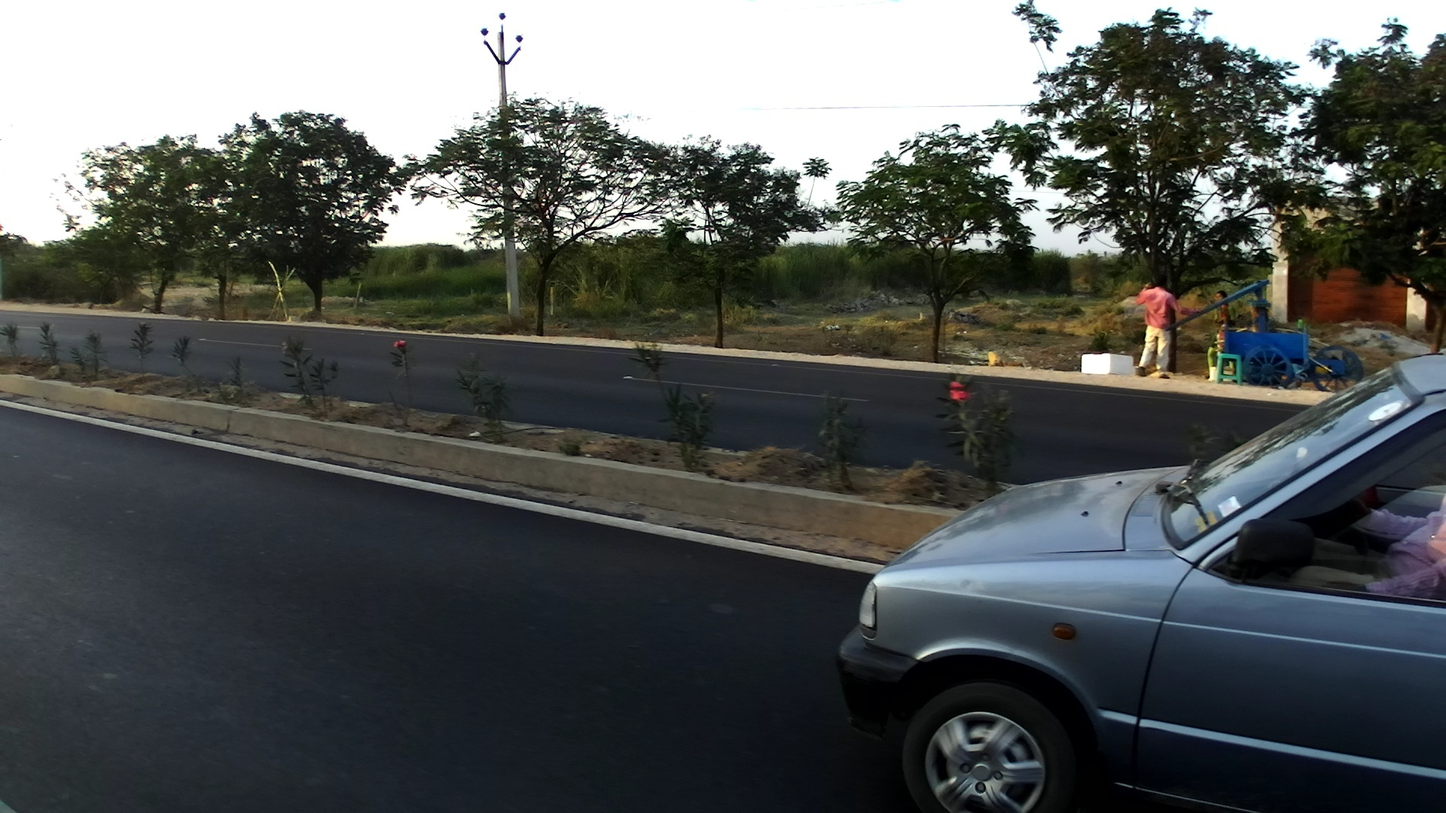car: (835, 350, 1444, 811)
person: (1134, 272, 1197, 377), (1205, 288, 1241, 366)
vehicle fallback: (1167, 279, 1365, 392)
